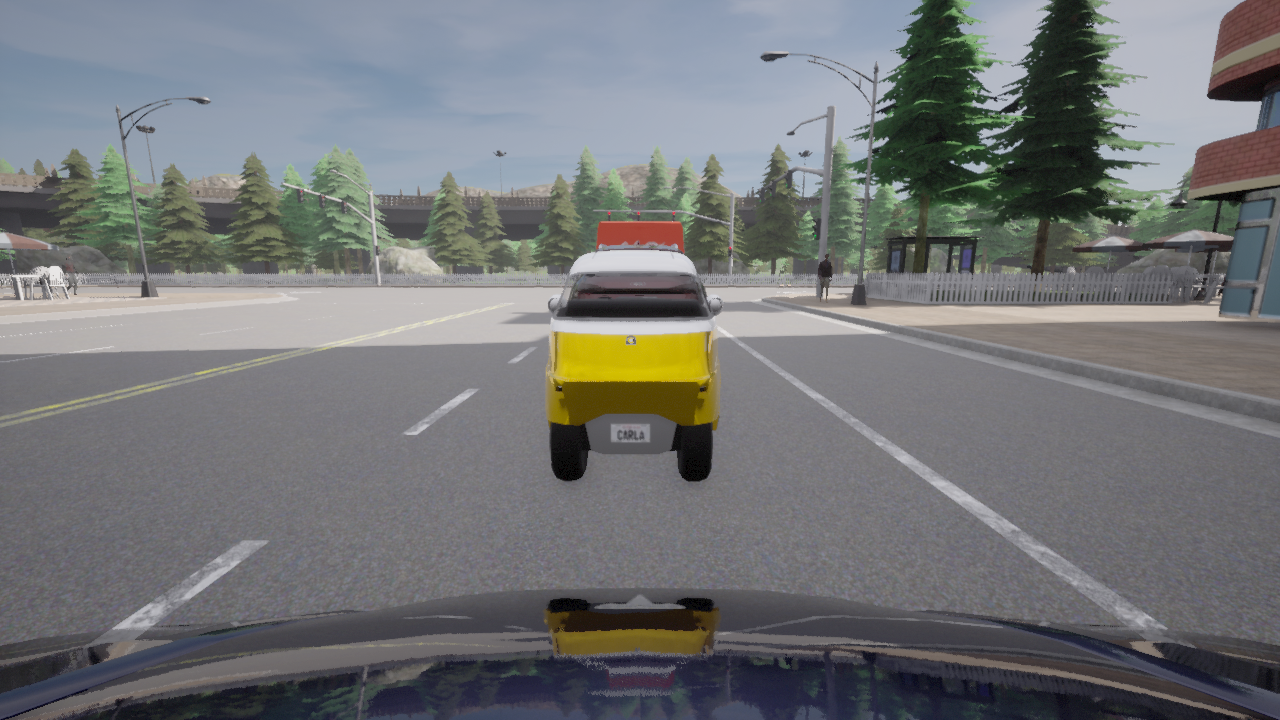cyclist: (0, 588, 1279, 719), (545, 250, 723, 480), (593, 240, 706, 296), (596, 221, 683, 252)
pedestrian: (61, 255, 81, 295), (817, 252, 832, 302)
